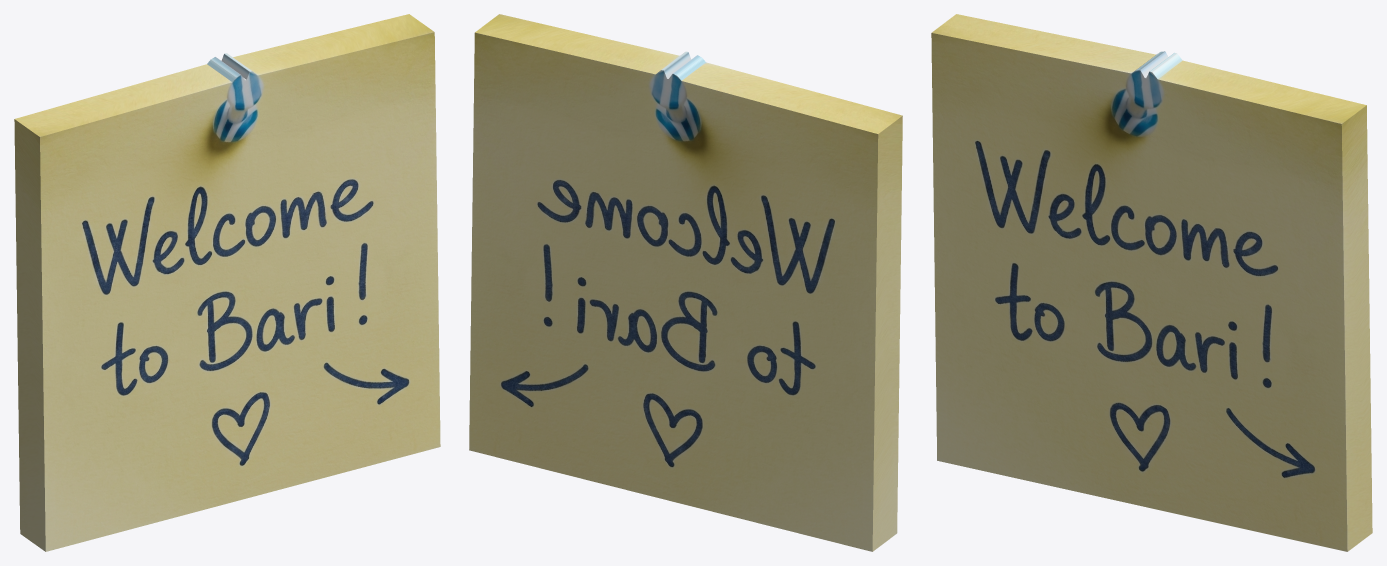
File: postitBari.glb
The picture shows the model from 3 angles, left to right: view 1: azimuth 30°, elevation 25°; view 2: azimuth 150°, elevation 25°; view 3: azimuth 330°, elevation 25°; orthographic projection. The views are drawn at different scales.
Parts seen in each view (by area): view 1: PostItBari; view 2: PostItBari; view 3: PostItBari.
Part boxes in pixels (x1,y1,x2,y2): PostItBari: [14, 14, 440, 551]; PostItBari: [469, 14, 902, 551]; PostItBari: [931, 14, 1372, 551].
Bounding box in the file's own units: 1.38 × 1.4 × 0.1655.
1 material, 1 textured.
